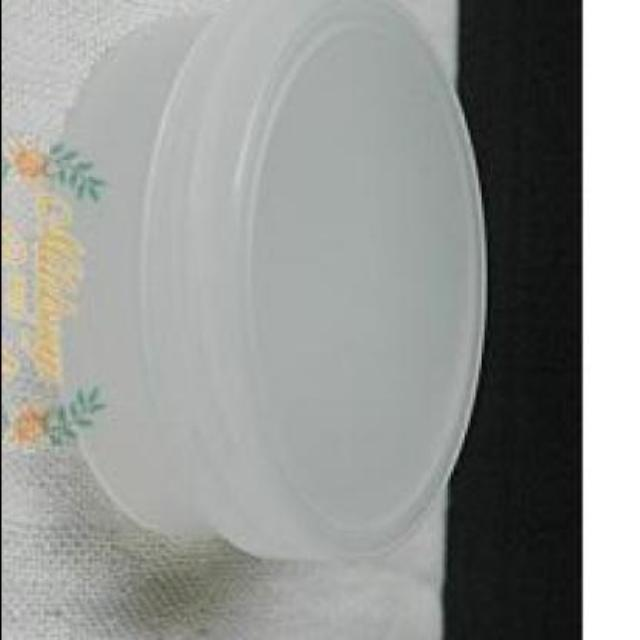plastic_box: (42, 1, 488, 562)
